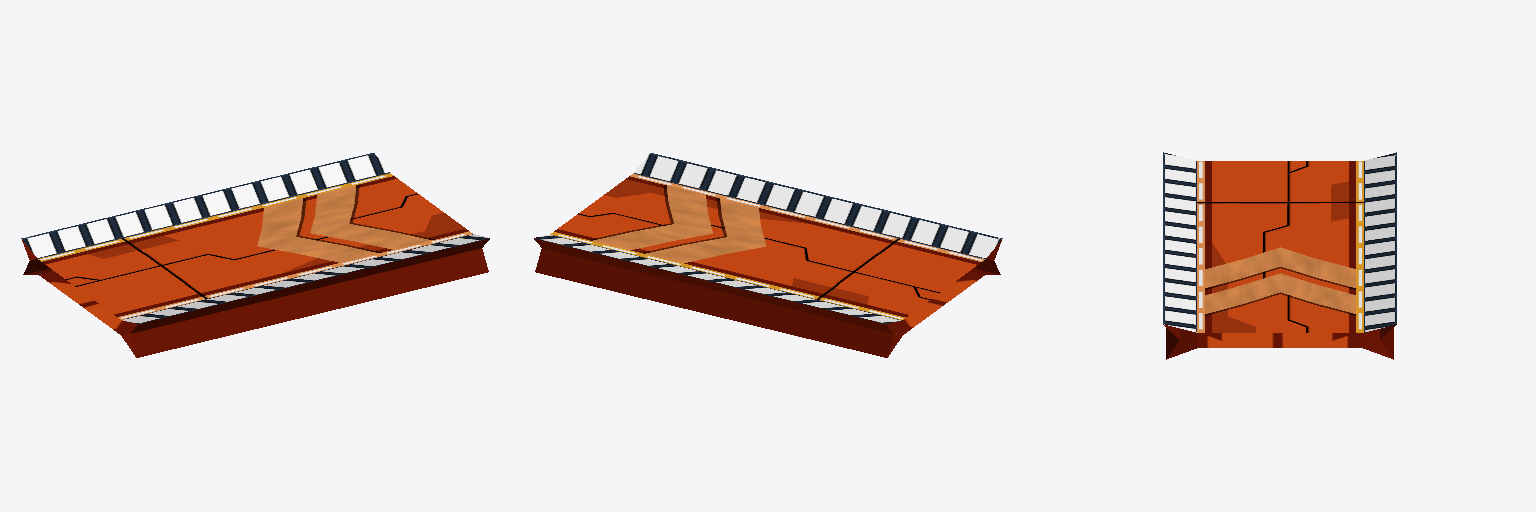
3 renders of one model, left to right at view 1: azimuth 30°, elevation 25°; view 2: azimuth 150°, elevation 25°; view 3: azimuth 270°, elevation 25°, orthographic.
Parts seen in each view (by area): view 1: Road1_Cube.003; view 2: Road1_Cube.003; view 3: Road1_Cube.003.
Boxes of the visible parts, x1,y1,x2,y2 form: Road1_Cube.003: [21, 153, 489, 357]; Road1_Cube.003: [534, 153, 1002, 357]; Road1_Cube.003: [1163, 152, 1396, 359].
Bounding box in the file's own units: 45.74 × 4.38 × 26.3.
Materials: 1 (1 with a texture image).